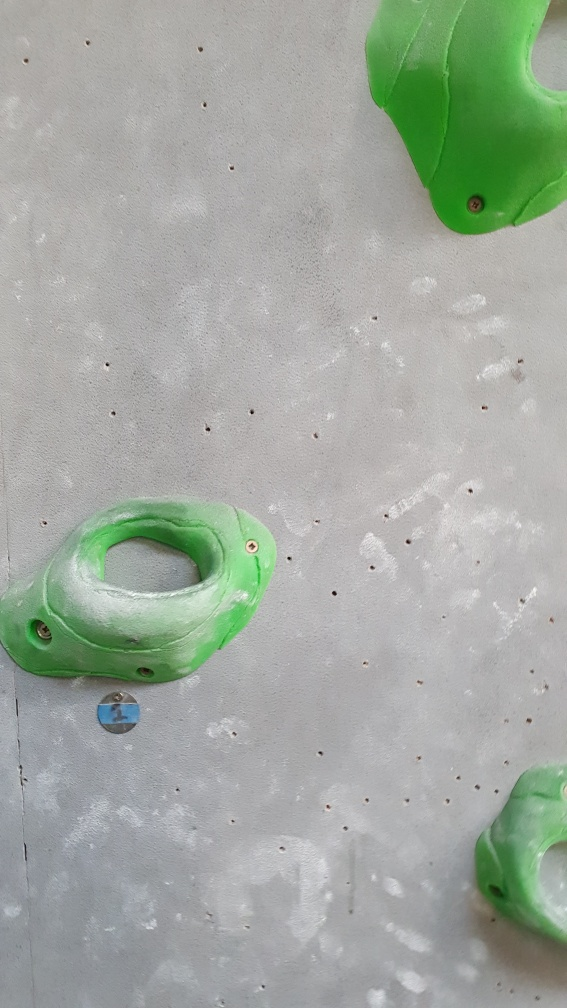Hand Start: (94, 687, 144, 736)
Pocket: (1, 493, 282, 686), (363, 1, 565, 240), (470, 762, 567, 953)
